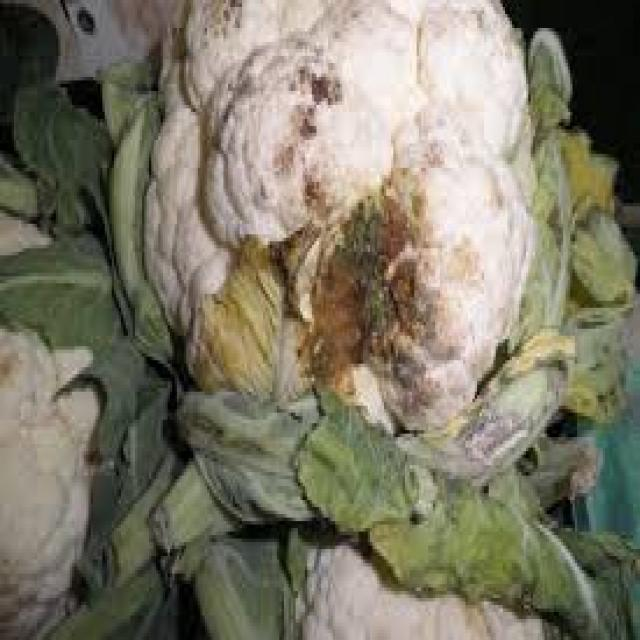organic waste: (0, 0, 638, 637), (137, 0, 538, 437), (0, 209, 102, 636), (295, 521, 554, 637)
